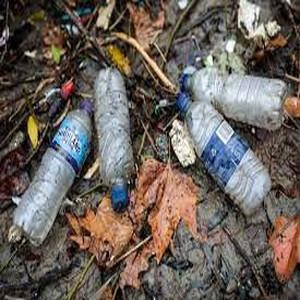Plastic: (13, 99, 93, 249), (172, 98, 271, 213), (90, 65, 140, 209), (178, 62, 286, 125)
